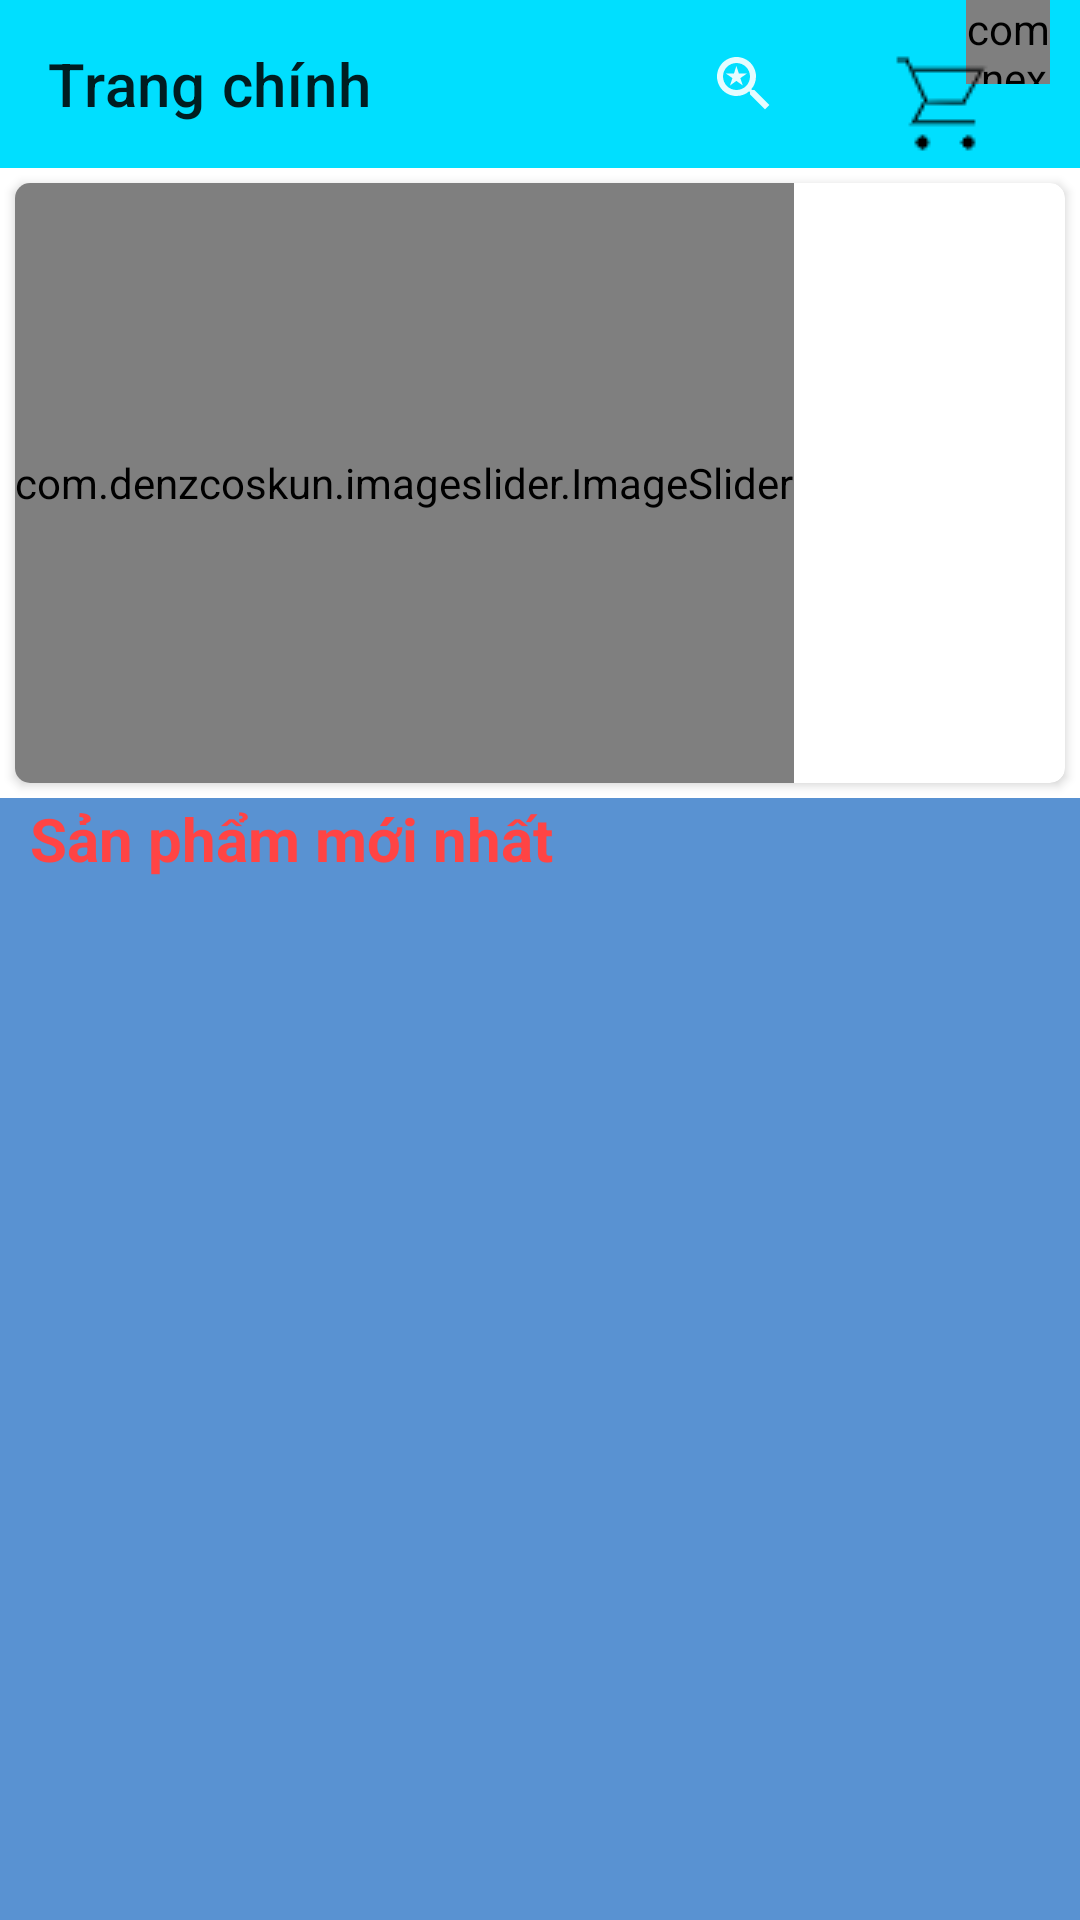

Screen size 1080px×1920px. Icon name, then its box in pixels as (x1, y1, x2, y2):
saved search: (717, 57, 769, 109)
